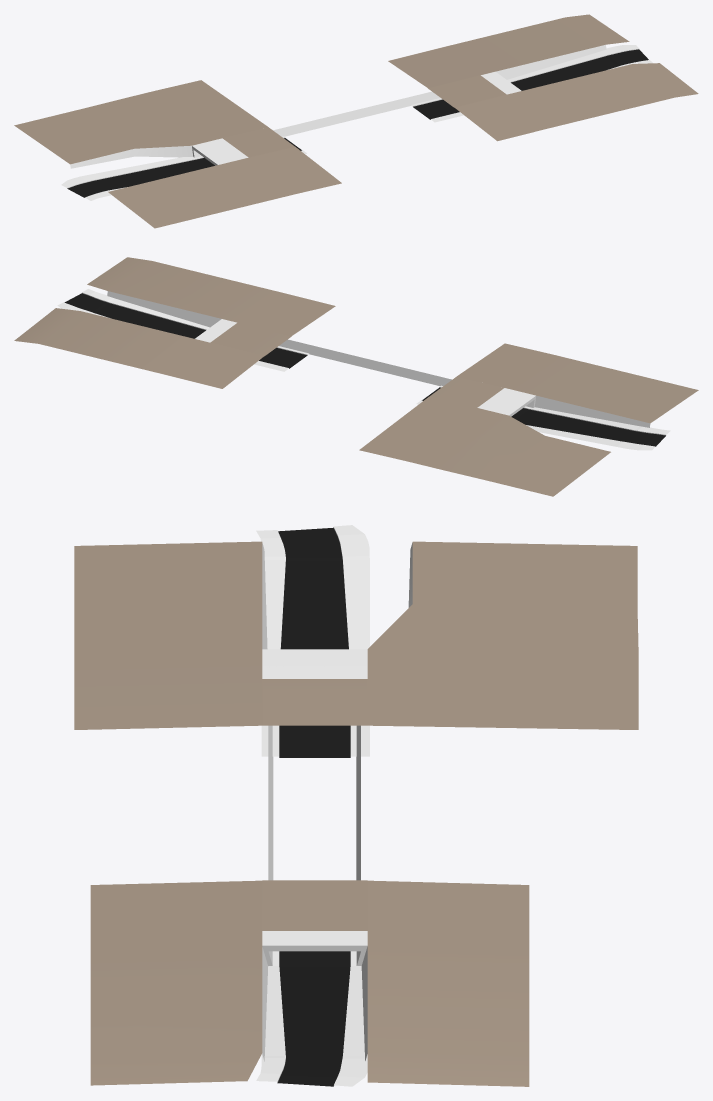
The model's file is tunnel-1.gltf.
3 views of the same model, one above another, from view 1: azimuth 30°, elevation 25°; view 2: azimuth 150°, elevation 25°; view 3: azimuth 270°, elevation 25° (orthographic). The views are drawn at different scales.
Parts seen in each view (by area): view 1: Tunnel, Plane.001, Plane.003; view 2: Tunnel, Plane.003, Plane.001; view 3: Tunnel, Plane.003, Plane.001.
Part boxes in pixels (x1,y1,x2,y2): Tunnel: (14, 14, 698, 228); Plane.001: (411, 45, 652, 122); Plane.003: (61, 136, 306, 200); Tunnel: (14, 257, 698, 496); Plane.003: (416, 385, 670, 450); Plane.001: (57, 289, 308, 371); Tunnel: (74, 541, 638, 1086); Plane.003: (256, 525, 369, 757); Plane.001: (256, 951, 367, 1086).
Size of the model in its own units: 219 by 3.97 by 92.95.
